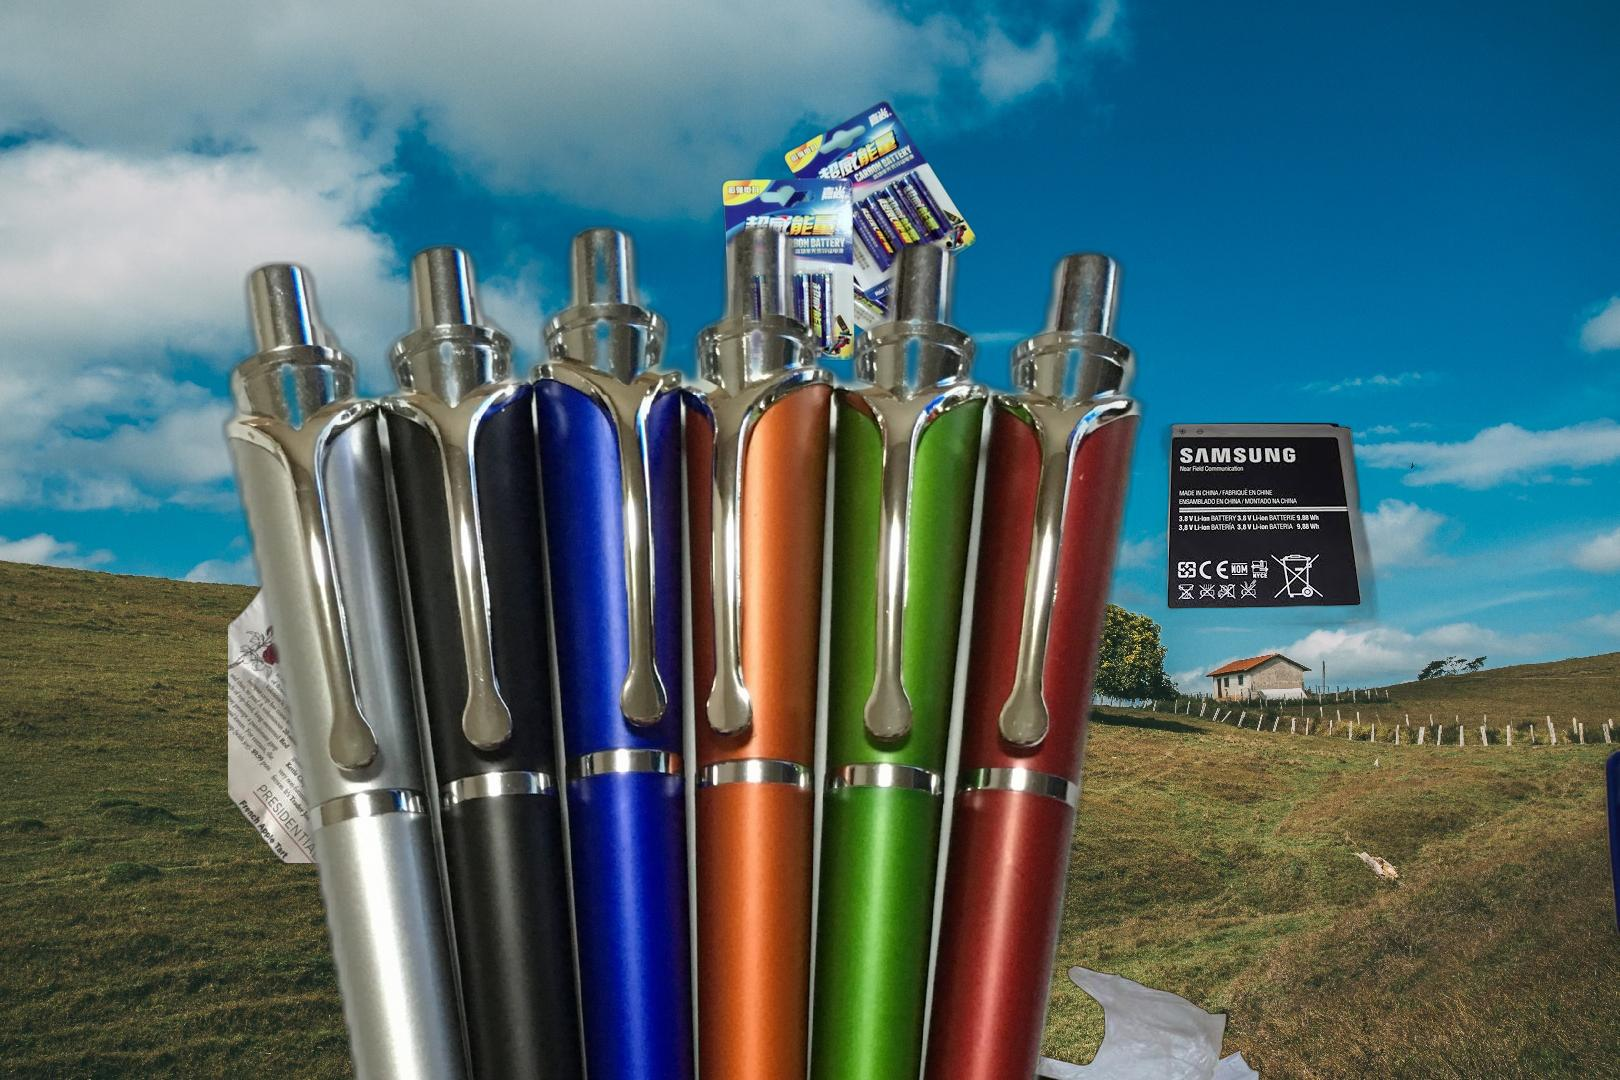battery: (721, 100, 979, 364), (1152, 421, 1383, 635)
paper: (228, 479, 732, 863)
penholder: (206, 213, 1161, 1080), (1596, 671, 1620, 1080)
plastic-bag: (1006, 963, 1263, 1080)
shoes: (855, 469, 978, 633)
